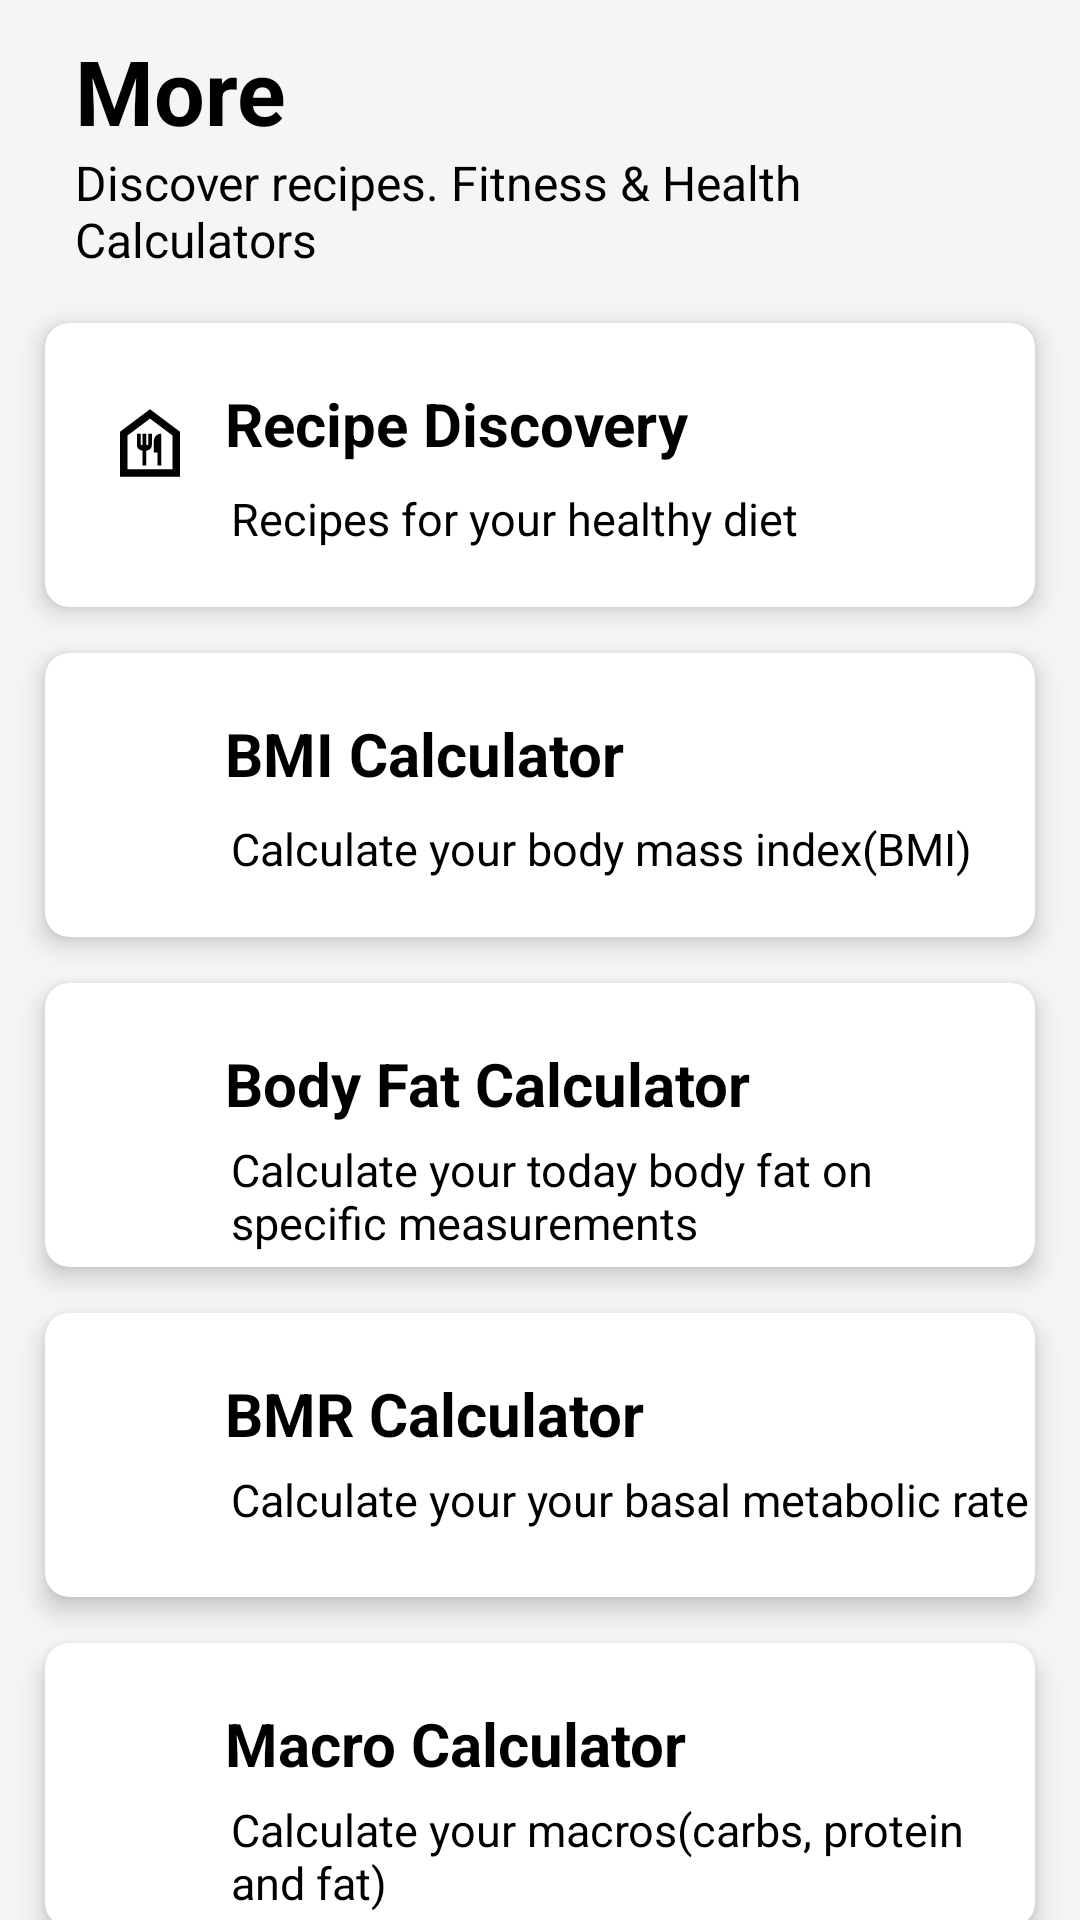

Icon click points for this 1080×1920 phone screenshot, format point (x, y):
food bank: point (150, 443)
